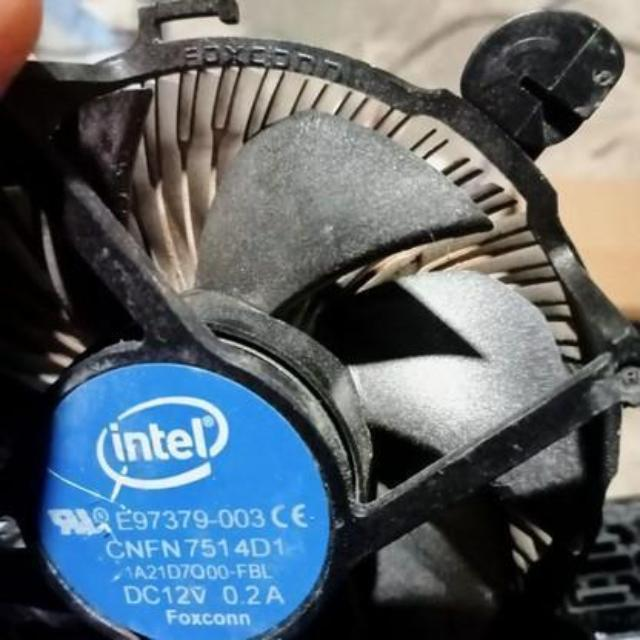CPU_Fan: (0, 28, 608, 640)
